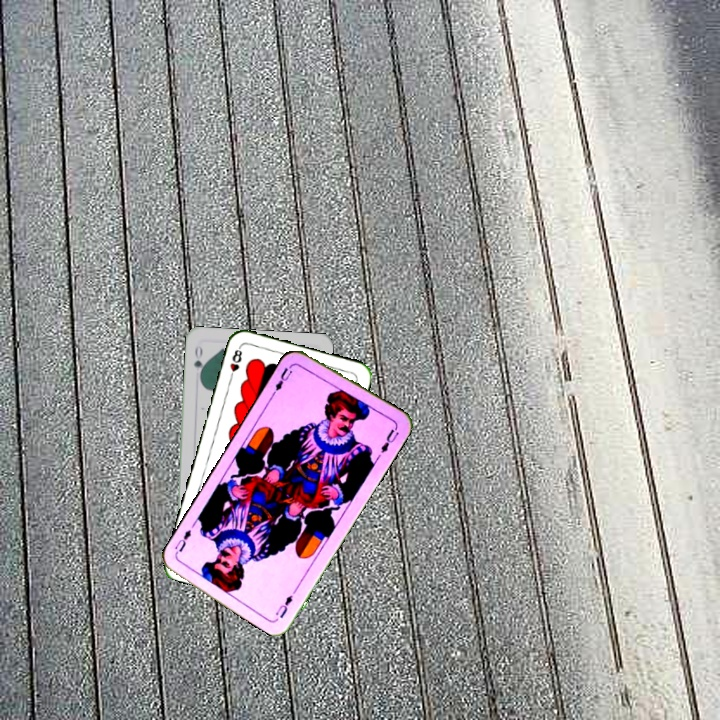EU: (269, 360, 297, 397), (271, 591, 295, 621)
GO: (190, 341, 207, 382)
H8: (226, 343, 245, 383)
